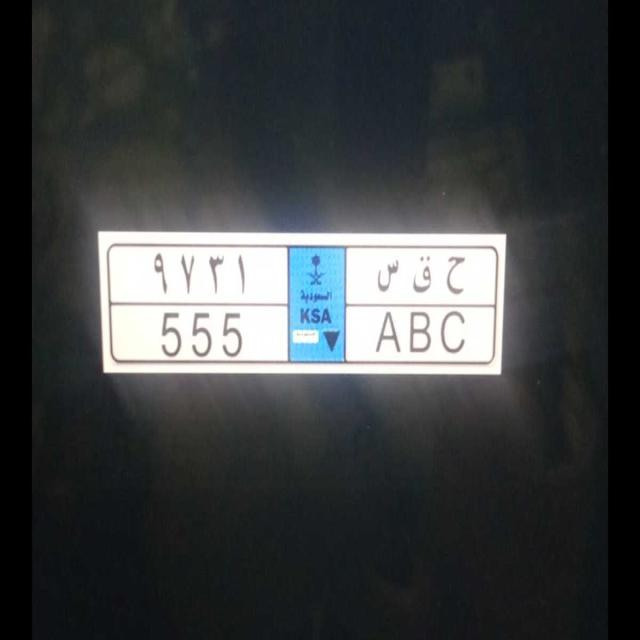license_plate: (116, 302, 489, 365)
